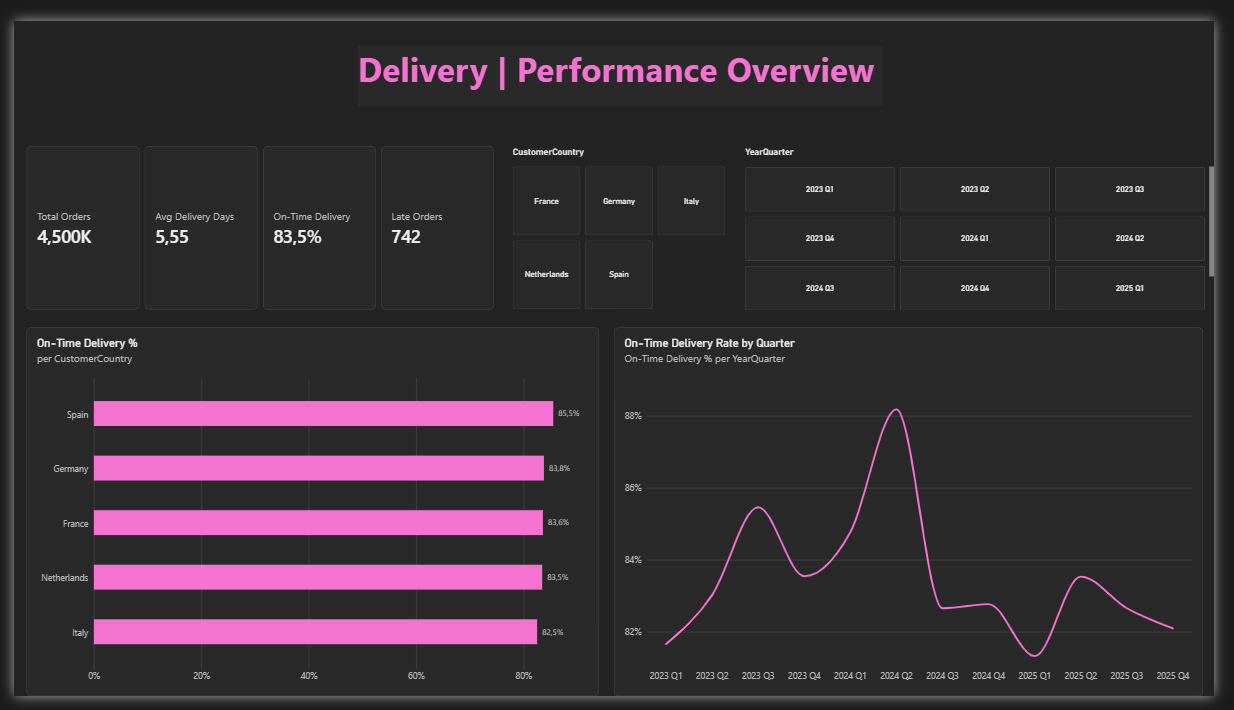

This screenshot's page, from the dashboard's own definition file:
{"tool":"powerbi","page":{"name":"Delivery Performance","canvas":[1920,1080],"ordinal":1},"visuals":[{"type":"cardVisual","fields":{"Data":["Sales.Order Count","Sales.Avg Delivery Days","Sales.On-Time Delivery %","Sales.Late Orders"]},"box":[20,200,750,262],"z":0},{"type":"lineChart","title":"On-Time Delivery Rate by Quarter","fields":{"Category":["Dates.YearQuarter"],"Y":["Sales.On-Time Delivery %"]},"box":[960,490,942,590],"z":1000},{"type":"clusteredBarChart","fields":{"Category":["Sales.CustomerCountry"],"Y":["Sales.On-Time Delivery %"]},"box":[20,490,916,590],"z":2000},{"type":"advancedSlicerVisual","fields":{"Values":["Sales.CustomerCountry"]},"box":[798,200,342,262],"z":3000},{"type":"advancedSlicerVisual","fields":{"Values":["Dates.YearQuarter"]},"box":[1170,200,750,262],"z":4000},{"type":"textbox","box":[550,40,840,96],"z":5000}]}

Visuals, with their boxes in screenshot pixels (x1, y1, x2, y2), scaled from the page's 1920x1080 canvas onto the 1234x710 screenshot:
cardVisual - Sales.Order Count x Sales.Avg Delivery Days: {"left": 13, "top": 131, "right": 495, "bottom": 304}
"On-Time Delivery Rate by Quarter" lineChart: {"left": 617, "top": 322, "right": 1222, "bottom": 709}
clusteredBarChart - Sales.CustomerCountry x Sales.On-Time Delivery %: {"left": 13, "top": 322, "right": 602, "bottom": 709}
advancedSlicerVisual - Sales.CustomerCountry: {"left": 513, "top": 131, "right": 733, "bottom": 304}
advancedSlicerVisual - Dates.YearQuarter: {"left": 752, "top": 131, "right": 1233, "bottom": 304}
textbox: {"left": 353, "top": 26, "right": 893, "bottom": 89}
